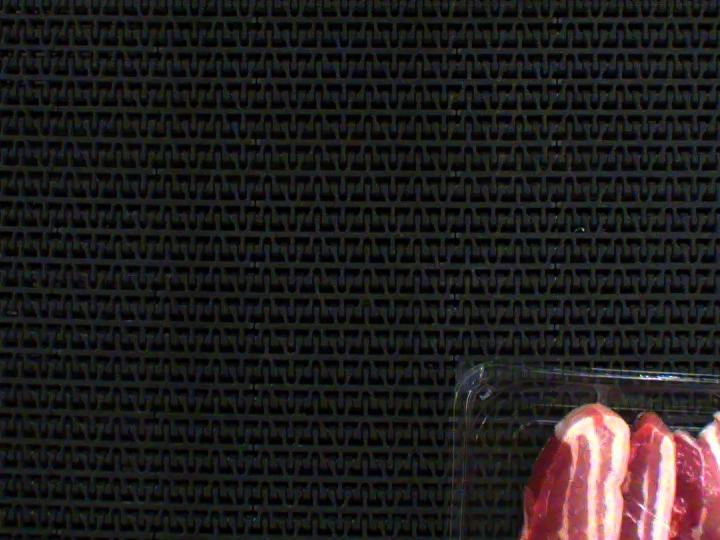packaging-error: (584, 374, 612, 411)
